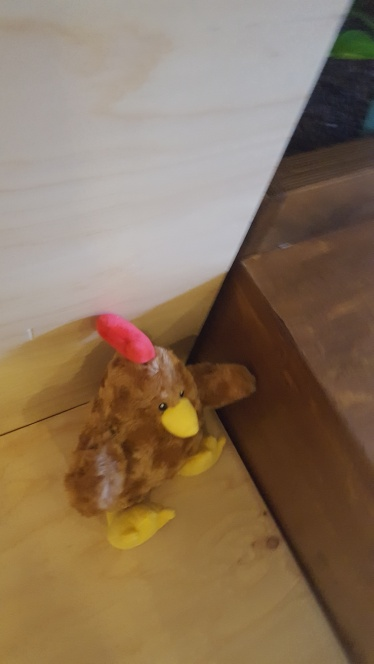chicken_left: (66, 312, 153, 551)
